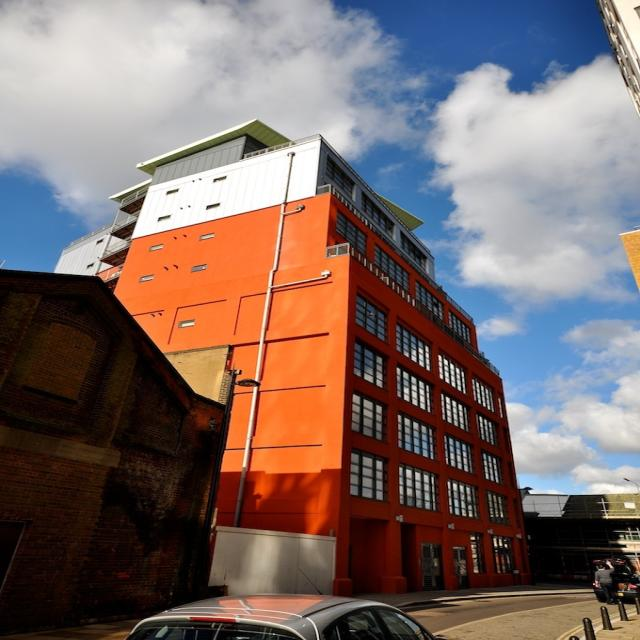car: (121, 593, 437, 639)
